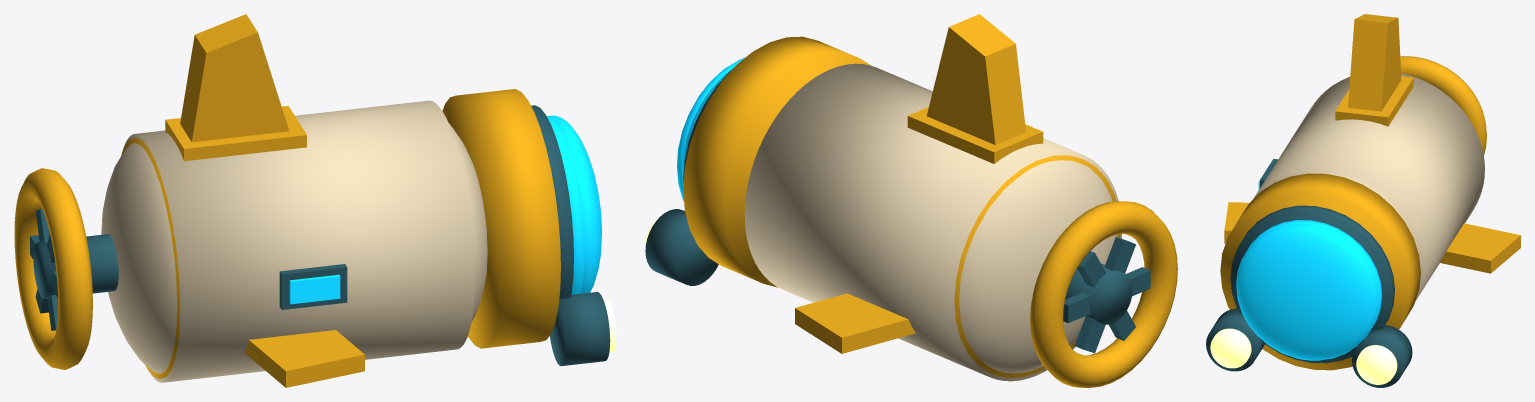
Rendered from submarine.glb.
3 renders of one model, left to right at view 1: azimuth 30°, elevation 25°; view 2: azimuth 150°, elevation 25°; view 3: azimuth 270°, elevation 25°, orthographic. The views are drawn at different scales.
Visible parts, largest first — view 1: Submarine main hull, Nose rim, Rounded stern, Open propeller ring, Swept dorsal fin, Side fin, Lamp housing, Top fin pedestal, Domed glass, Window frame, Propeller shaft, Rounded bow (+5 smaller); view 2: Submarine main hull, Rounded stern, Nose rim, Open propeller ring, Swept dorsal fin, Side fin.001, Lamp housing.001, Top fin pedestal, Propeller shaft, Rear golden hull band, Propeller blade.001, Propeller blade (+2 smaller); view 3: Submarine main hull, Domed glass, Nose rim, Swept dorsal fin, Window frame, Side fin.001, Open propeller ring, Lamp housing.001, Top fin pedestal, Lamp lens, Lamp lens.001, Lamp housing (+3 smaller).
Boxes of the visible parts, x1,y1,x2,y2 form: Submarine main hull: [121, 100, 474, 382]; Nose rim: [442, 89, 560, 348]; Rounded stern: [101, 143, 176, 373]; Open propeller ring: [14, 168, 92, 369]; Swept dorsal fin: [180, 14, 289, 142]; Side fin: [245, 330, 364, 387]; Lamp housing: [550, 292, 610, 366]; Top fin pedestal: [165, 105, 306, 161]; Domed glass: [551, 115, 601, 293]; Window frame: [531, 105, 573, 298]; Propeller shaft: [33, 234, 118, 298]; Rounded bow: [449, 123, 487, 321]; Submarine main hull: [744, 63, 1121, 381]; Rounded stern: [959, 160, 1117, 373]; Nose rim: [683, 36, 871, 287]; Open propeller ring: [1030, 201, 1177, 387]; Swept dorsal fin: [926, 14, 1025, 144]; Side fin.001: [795, 293, 915, 353]; Lamp housing.001: [645, 209, 718, 285]; Top fin pedestal: [907, 107, 1043, 163]; Propeller shaft: [1065, 263, 1132, 324]; Rear golden hull band: [954, 155, 1120, 377]; Propeller blade.001: [1074, 237, 1135, 353]; Propeller blade: [1063, 267, 1150, 323]; Submarine main hull: [1253, 73, 1484, 301]; Domed glass: [1236, 224, 1378, 360]; Nose rim: [1220, 173, 1420, 370]; Swept dorsal fin: [1348, 14, 1401, 111]; Window frame: [1230, 205, 1394, 363]; Side fin.001: [1440, 223, 1520, 273]; Open propeller ring: [1400, 56, 1486, 155]; Lamp housing.001: [1352, 325, 1412, 387]; Top fin pedestal: [1335, 76, 1413, 126]; Lamp lens: [1210, 328, 1251, 368]; Lamp lens.001: [1356, 345, 1397, 384]; Lamp housing: [1206, 308, 1264, 371].
Bounding box in the file's own units: 3.66 × 2.27 × 2.5.
